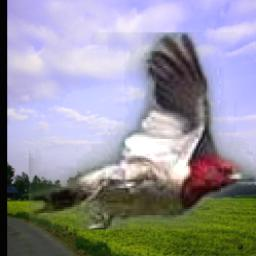Woodpecker: (30, 33, 256, 231)
